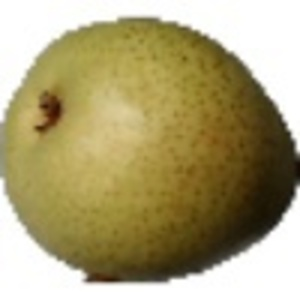pera: (1, 15, 300, 287)
